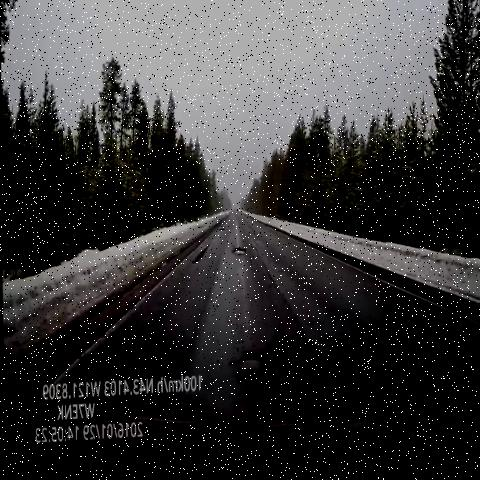pothole: (223, 336, 267, 393), (188, 239, 211, 275), (226, 236, 250, 267), (215, 222, 226, 241)
